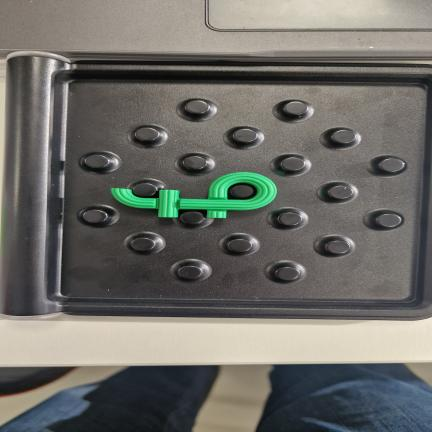D_Green: (111, 173, 276, 218)
board: (1, 57, 432, 319)
hinge: (0, 56, 76, 321)
pin: (378, 157, 405, 173), (132, 182, 158, 197), (376, 213, 402, 228), (331, 129, 355, 145), (283, 101, 308, 116), (232, 128, 257, 143), (280, 157, 305, 172), (182, 156, 207, 171), (84, 154, 109, 169), (227, 238, 252, 253), (177, 265, 202, 280), (82, 209, 108, 223), (135, 127, 160, 141), (229, 185, 254, 199), (328, 185, 353, 199), (278, 212, 303, 226), (180, 211, 205, 225), (131, 237, 156, 251), (325, 240, 350, 254), (275, 267, 300, 281), (185, 100, 209, 114)
